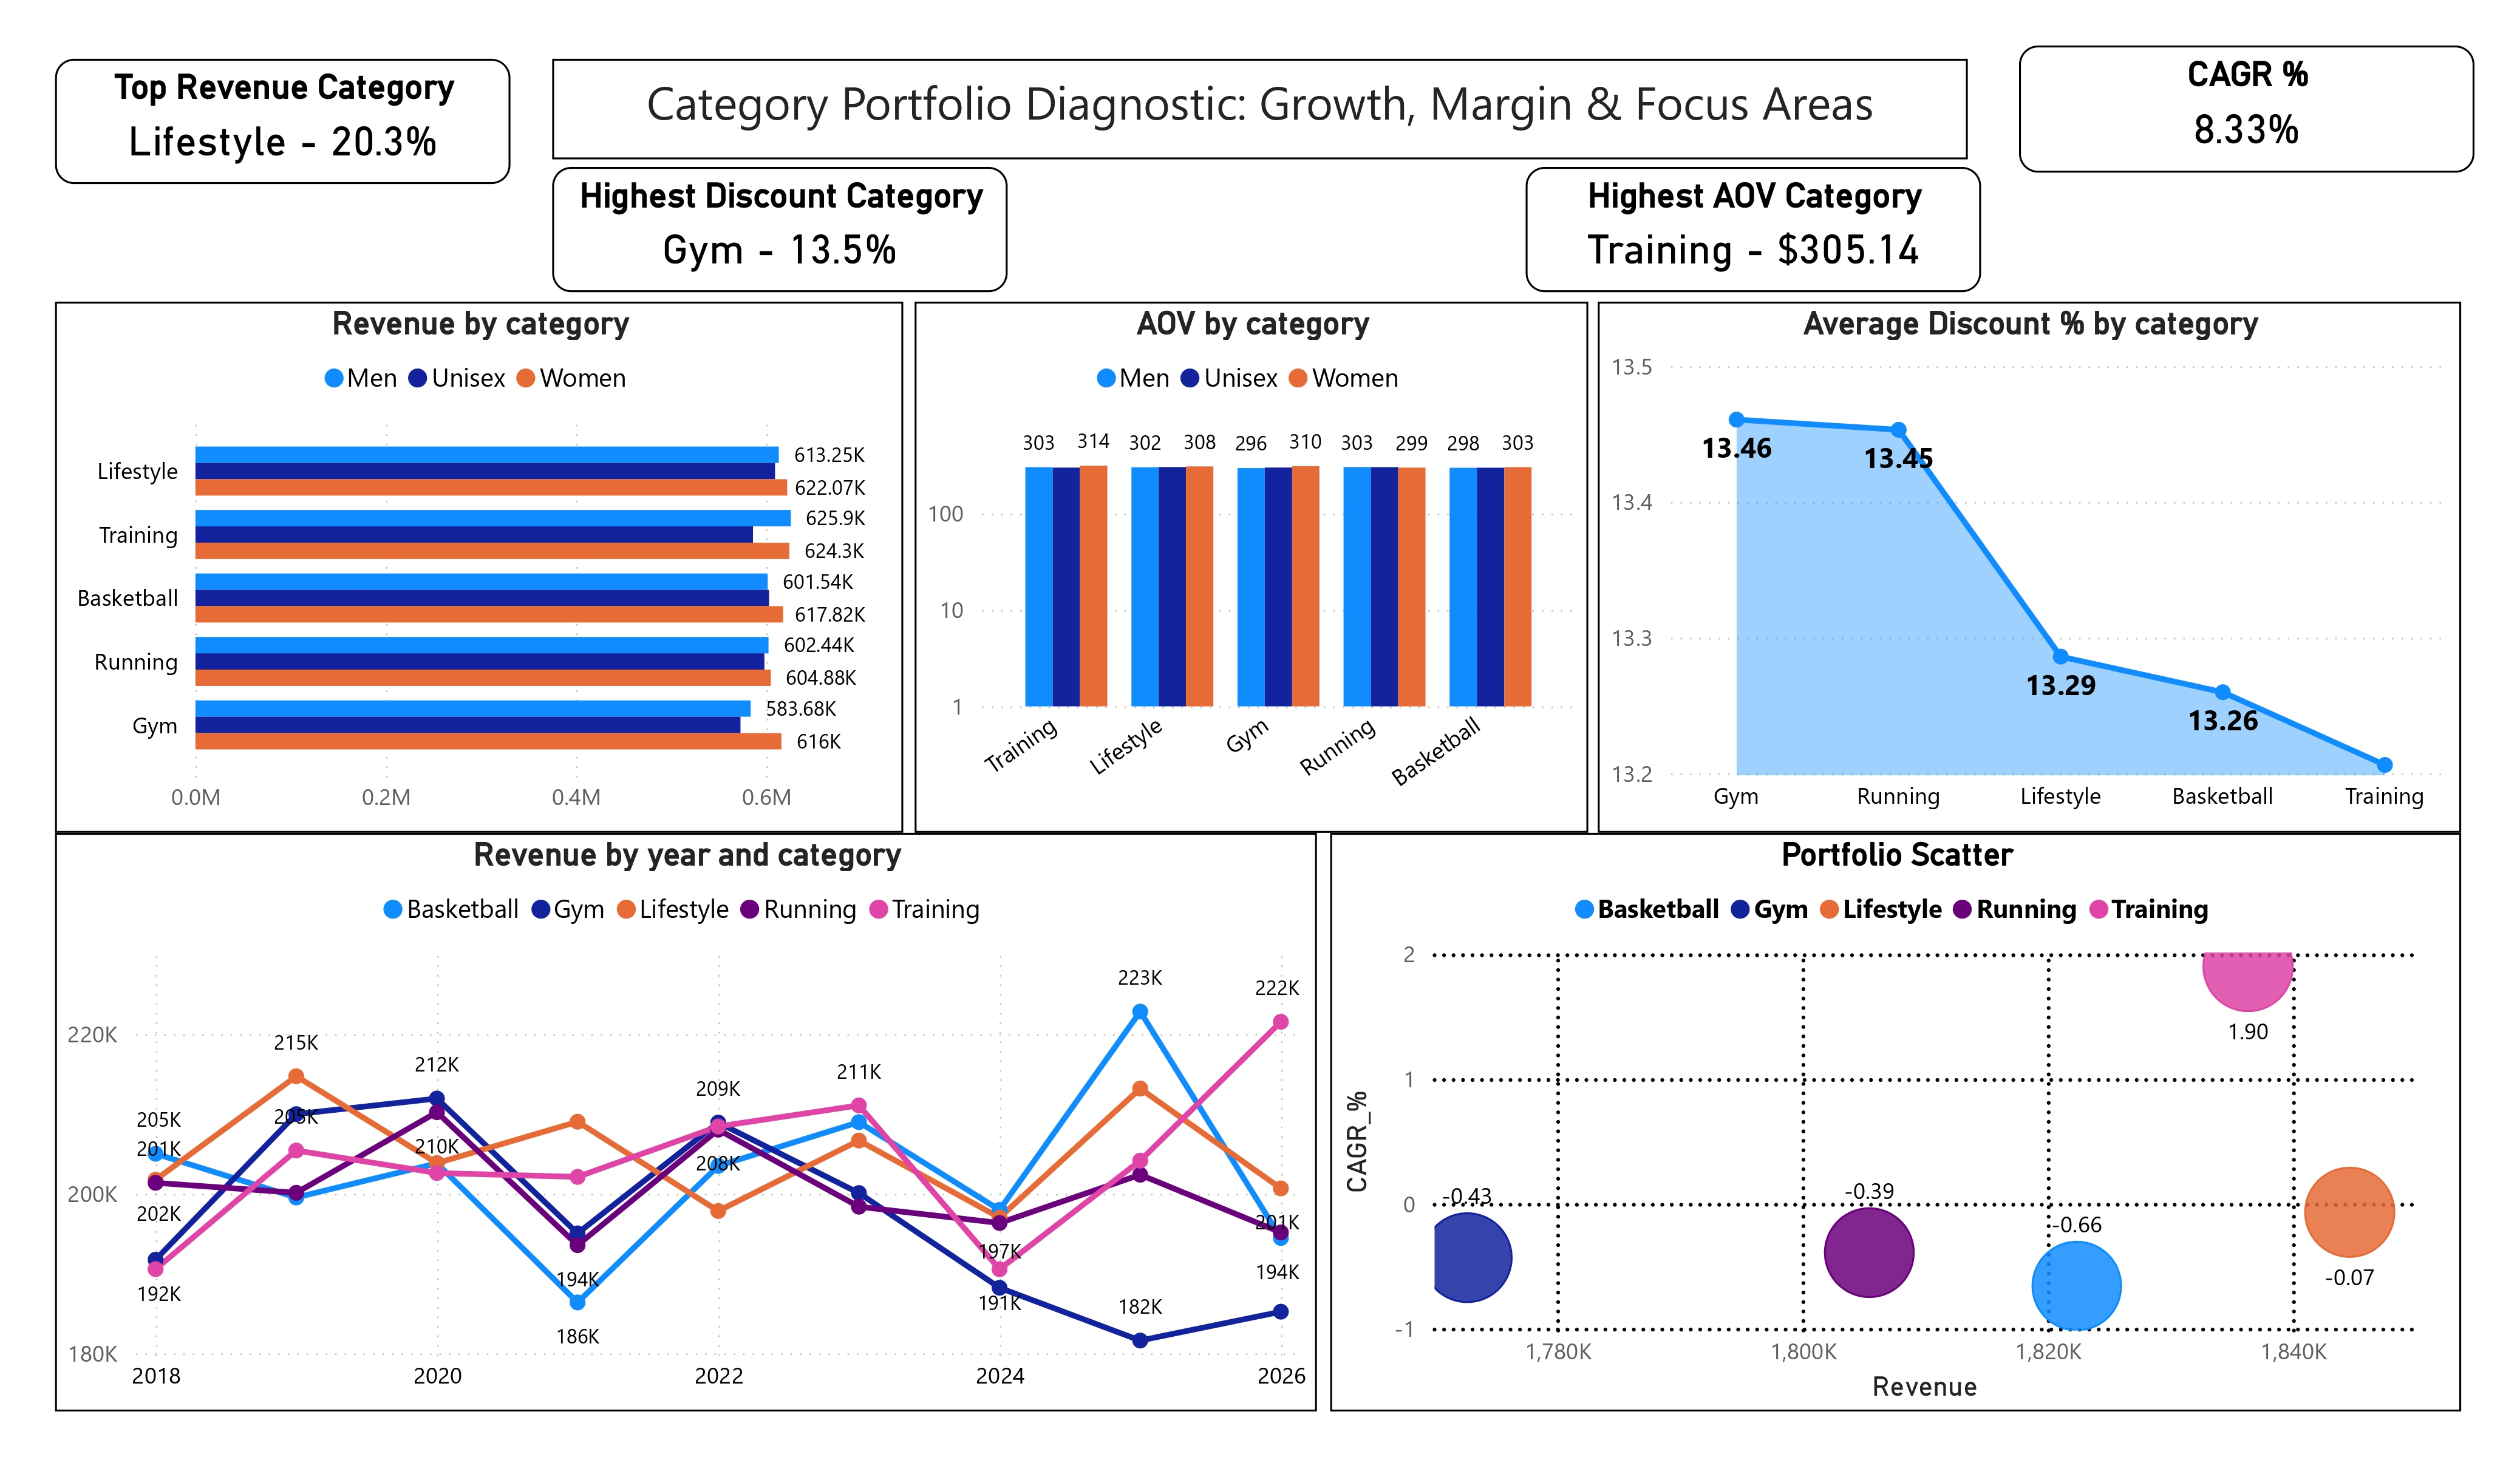

This screenshot's page, from the dashboard's own definition file:
{"tool":"powerbi","page":{"name":"Category Portfolio","canvas":[1280,720],"ordinal":6},"visuals":[{"type":"textbox","box":[266.7,6.7,746.7,53.3],"z":0},{"type":"card","title":"Top Revenue Category","fields":{"Values":["Table7.Top Revenue Category KPI"]},"box":[5,6.7,240,66.7],"z":1000},{"type":"card","title":"Highest AOV Category","fields":{"Values":["Table7.Highest AOV Category KPI"]},"box":[780,63.8,240,66.7],"z":2000},{"type":"card","title":"Highest Discount Category","fields":{"Values":["Table7.Highest Discount Category KPI"]},"box":[266.7,63.8,240,66.7],"z":3000},{"type":"card","title":"CAGR %","fields":{"Values":["Table7.Category CAGR %"]},"box":[1040,0,240,66.7],"z":4000},{"type":"clusteredBarChart","title":"Revenue by category","fields":{"Category":["category_summary.category"],"Y":["Sum(cleaned_data.Revenue)"],"Series":["cleaned_data.gender"]},"box":[5,135,446.7,280],"z":5000},{"type":"lineChart","title":"Revenue by year and category","fields":{"Y":["Sum(cleaned_data.Revenue)"],"Category":["cleaned_data.year"],"Series":["cleaned_data.category"]},"box":[5,415,665,305],"z":6000},{"type":"stackedAreaChart","fields":{"Category":["category_summary.category"],"Y":["Table2.Average Discount %"]},"box":[817.7,134.8,455.8,280.1],"z":7000},{"type":"clusteredColumnChart","title":"AOV by category","fields":{"Category":["category_summary.category"],"Y":["Table2.AOV"],"Series":["cleaned_data.gender"]},"box":[458.3,135,355,280],"z":8000},{"type":"scatterChart","title":"Portfolio Scatter","fields":{"X":["Sum(cleaned_data.Revenue)"],"Y":["category_summary.CAGR_%"],"Size":["Table2.AOV"],"Series":["cleaned_data.category"]},"box":[676.7,415,596.7,305],"z":9000}]}

Visuals, with their boxes on the page's 1280x720 design canvas (x1, y1, x2, y2). These are canvas units, not pixel positions in the 2520x1457 screenshot, which may show the page scaled, cropped or inside an application window:
textbox: {"left": 267, "top": 7, "right": 1013, "bottom": 60}
"Top Revenue Category" card: {"left": 5, "top": 7, "right": 245, "bottom": 73}
"Highest AOV Category" card: {"left": 780, "top": 64, "right": 1020, "bottom": 130}
"Highest Discount Category" card: {"left": 267, "top": 64, "right": 507, "bottom": 130}
"CAGR %" card: {"left": 1040, "top": 0, "right": 1280, "bottom": 67}
"Revenue by category" clusteredBarChart: {"left": 5, "top": 135, "right": 452, "bottom": 415}
"Revenue by year and category" lineChart: {"left": 5, "top": 415, "right": 670, "bottom": 720}
stackedAreaChart - category_summary.category x Table2.Average Discount %: {"left": 818, "top": 135, "right": 1274, "bottom": 415}
"AOV by category" clusteredColumnChart: {"left": 458, "top": 135, "right": 813, "bottom": 415}
"Portfolio Scatter" scatterChart: {"left": 677, "top": 415, "right": 1273, "bottom": 720}
